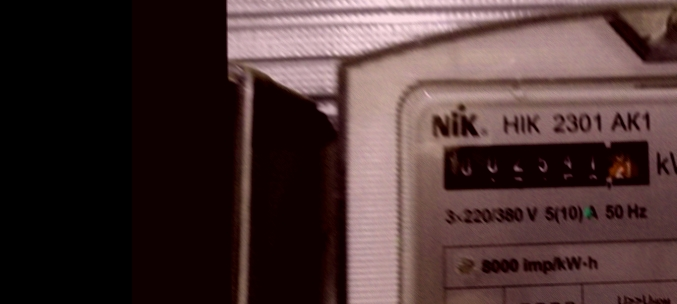0: (456, 152, 474, 178), (484, 148, 498, 175)
1: (584, 145, 597, 172)
2: (508, 148, 524, 173)
4: (560, 146, 573, 169)
5: (533, 146, 551, 175)
6: (611, 161, 626, 180)
screen: (429, 127, 663, 201)
